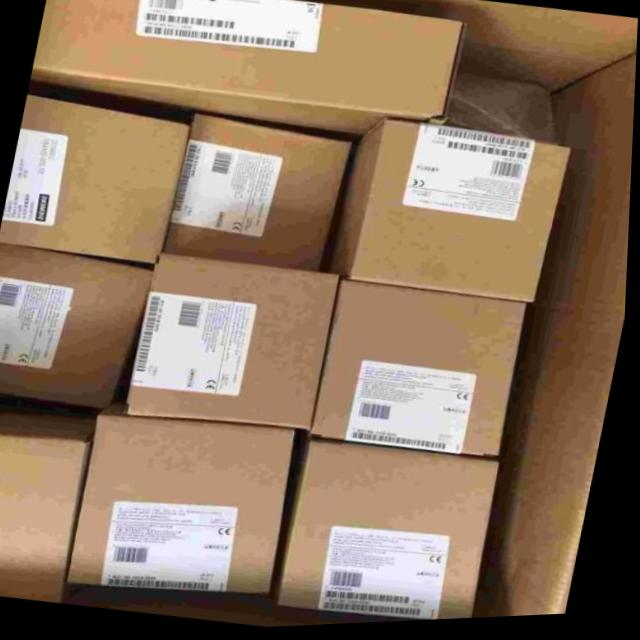box: (32, 0, 465, 141), (332, 122, 574, 308), (72, 415, 302, 600), (279, 438, 504, 624), (126, 258, 343, 434), (315, 284, 529, 462), (0, 95, 189, 265), (164, 112, 360, 275), (0, 245, 154, 409), (0, 407, 97, 603)
